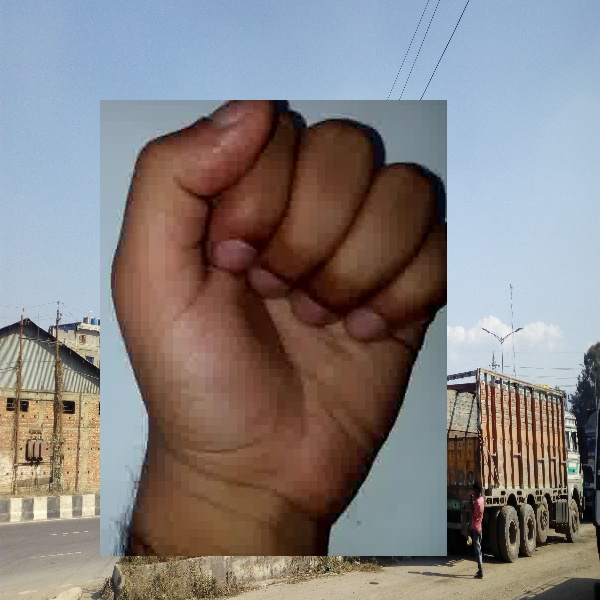A: (100, 100, 447, 556)
